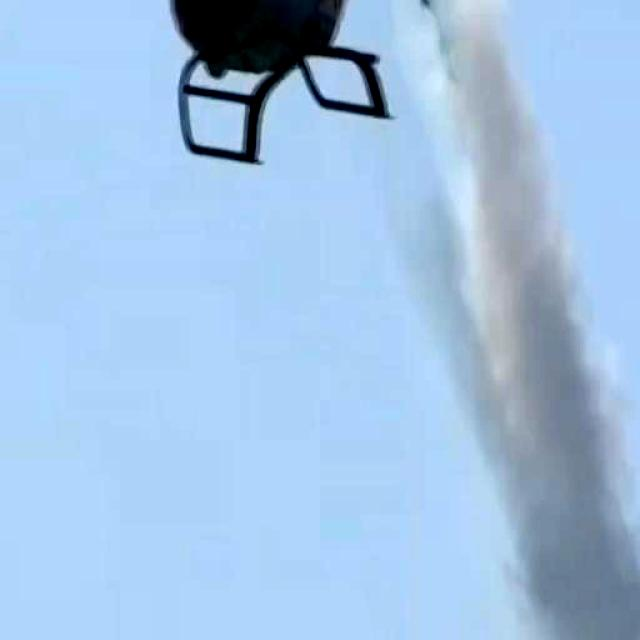drone: (175, 0, 486, 220)
